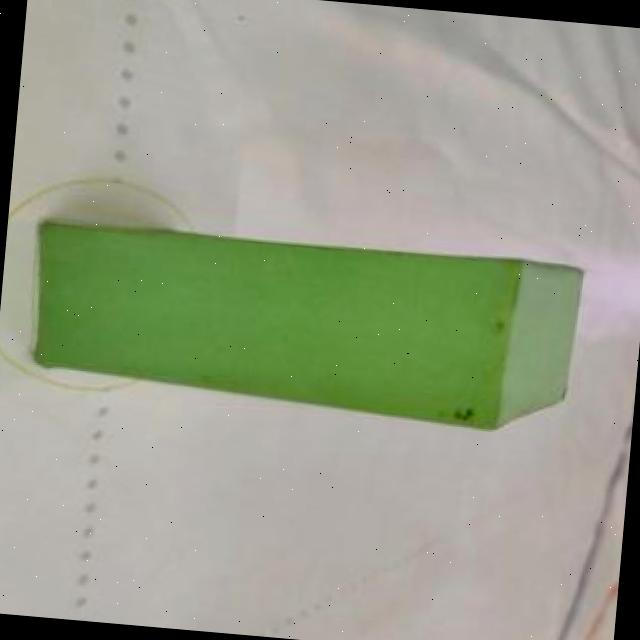greenbox: (21, 208, 582, 439)
